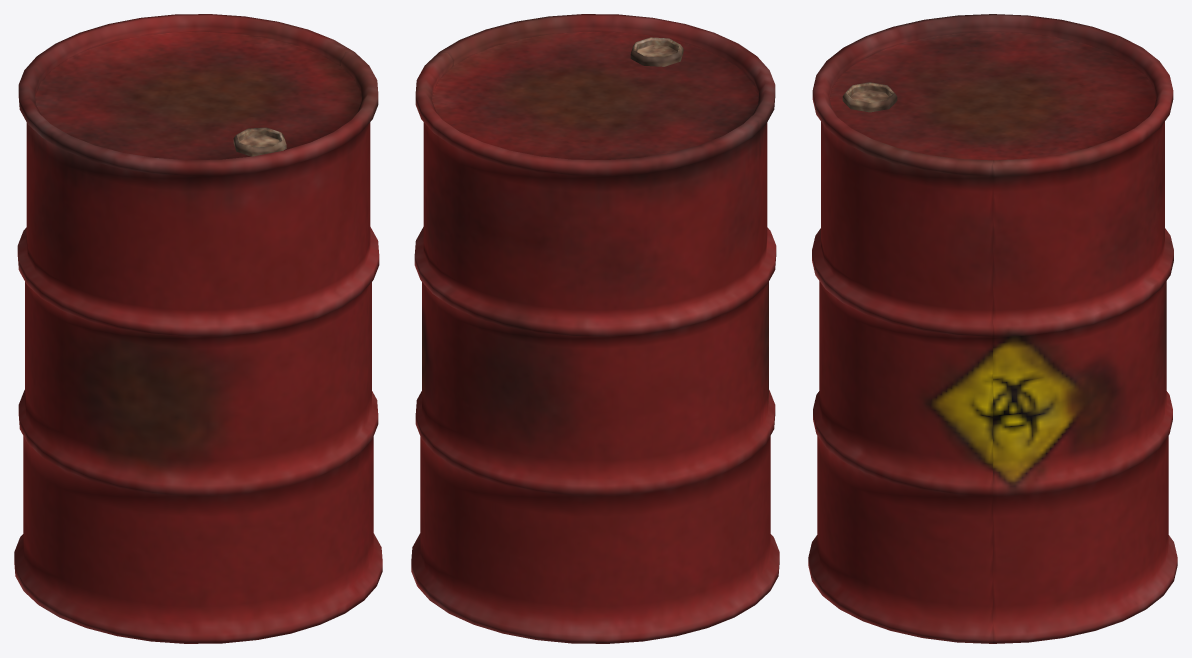
Rendered from oil_barrel.fbx.
3 views of the same model, side by side, from view 1: azimuth 30°, elevation 25°; view 2: azimuth 150°, elevation 25°; view 3: azimuth 270°, elevation 25° (orthographic).
Parts seen in each view (by area): view 1: Cylinder.000; view 2: Cylinder.000; view 3: Cylinder.000.
Part boxes in pixels (<box>): Cylinder.000: <box>14,14,382,643</box>; Cylinder.000: <box>411,14,779,643</box>; Cylinder.000: <box>808,14,1177,643</box>.
Size of the model in its own units: 1.65 by 2.35 by 1.65.
